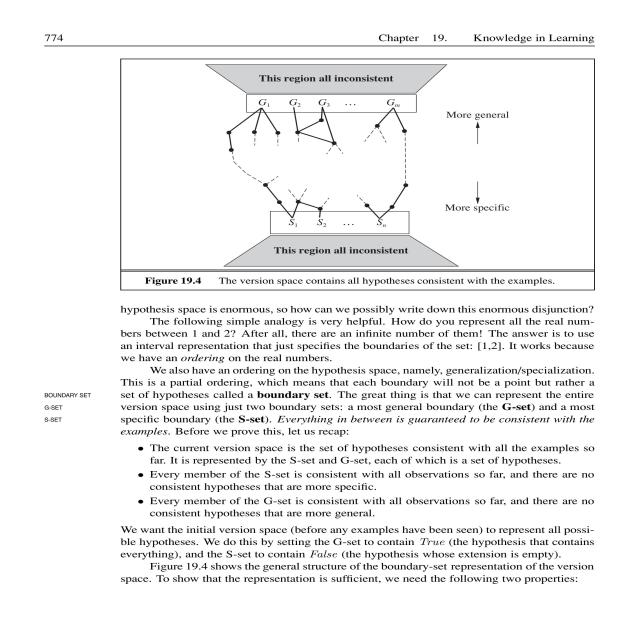diagram: (121, 58, 592, 290)
